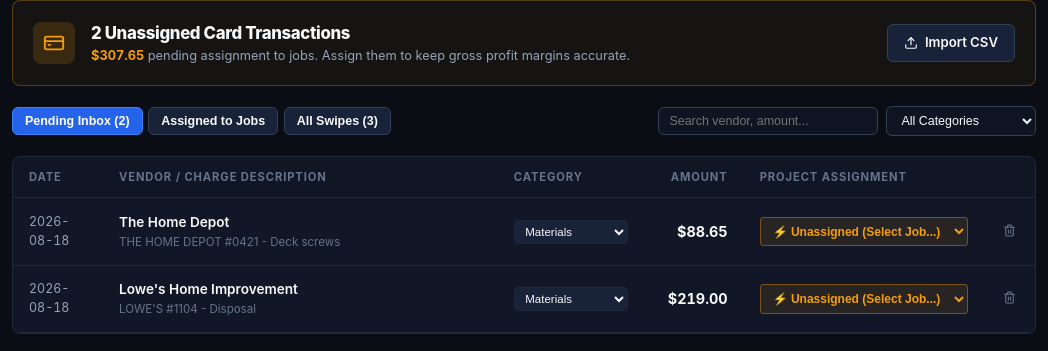
TransactionInbox › searches on the vendor, the description and the amount as typed
This screenshot has width=1048, height=351.
Type "219.00" into the field with placeholder "Search vendor, amount..." at (768, 121), box [658, 107, 878, 135]
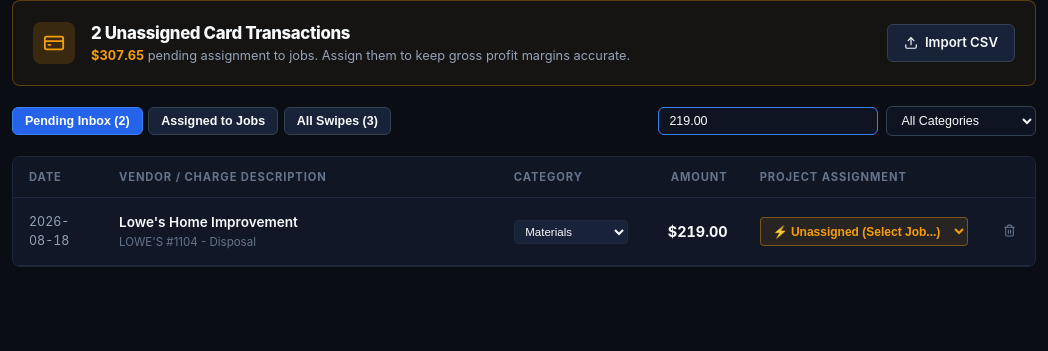
expect the text "Lowe's Home Improvement" is shown: met, box [119, 214, 298, 230]
expect the text "The Home Depot" is gone: met
